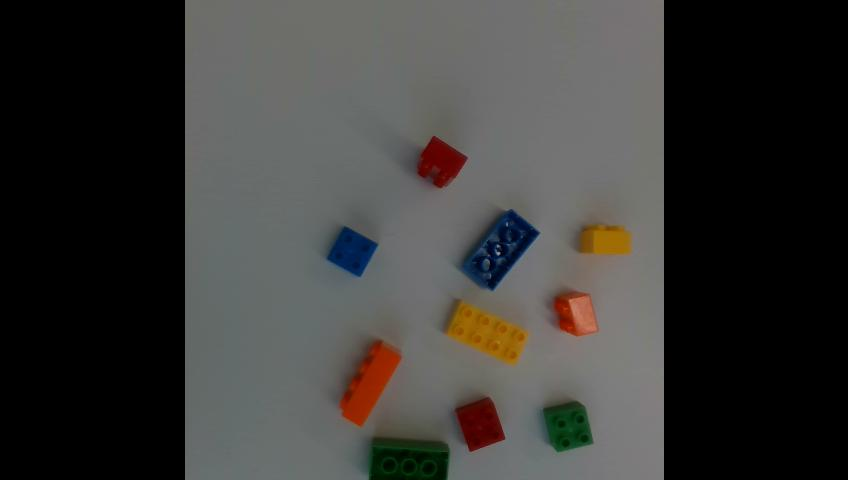2x2_blue: (329, 227, 377, 275)
2x2_green: (544, 398, 592, 453)
2x2_orange: (554, 292, 598, 335)
2x2_red: (457, 397, 505, 452)
2x2_yellow: (581, 226, 631, 253)
4x2_blue: (464, 208, 541, 291)
4x2_green: (368, 440, 449, 480)
4x2_orange: (341, 339, 404, 427)
4x2_red: (419, 136, 469, 188)
4x2_yellow: (446, 300, 529, 364)
